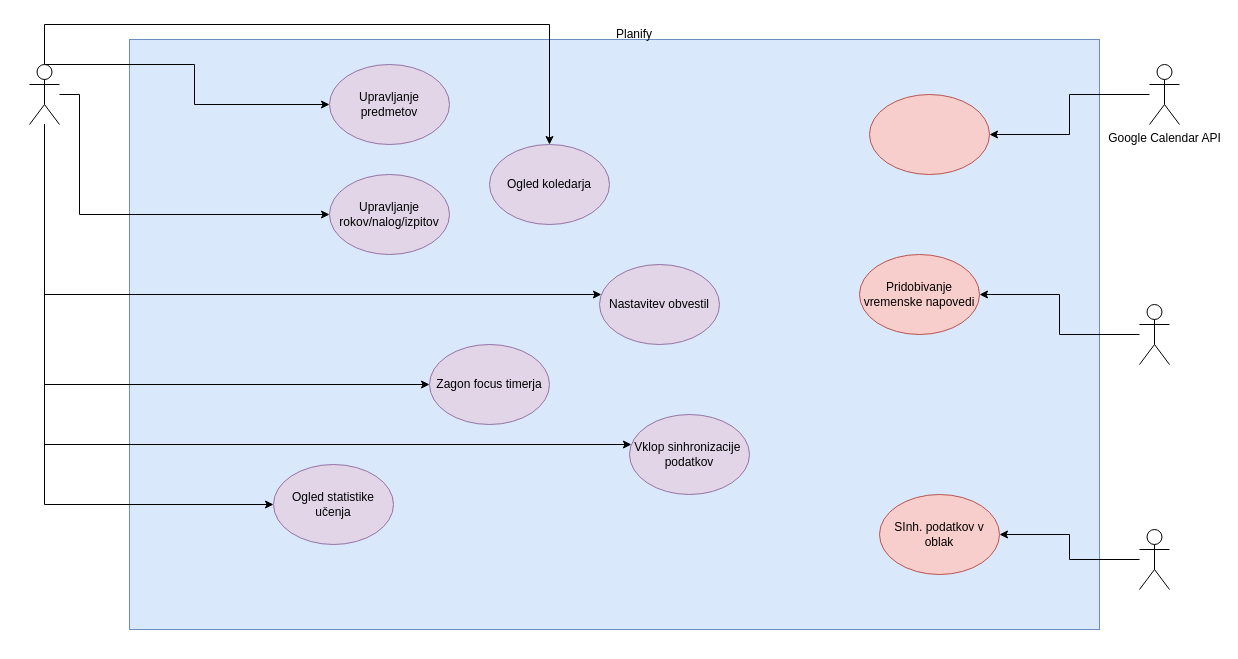
This 1238x659 diagram has some shape labels left out. Each missing label, with the centre of its shape:
Firebase: (x=1154, y=559)
OpenWeather API: (x=1154, y=334)
Sinhronizacija dogodkov: (x=929, y=134)
Uporabnik: (x=44, y=94)
